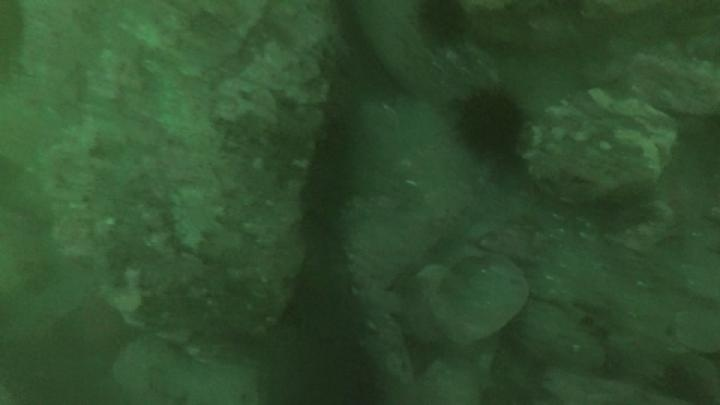echinus: (452, 85, 529, 160), (414, 1, 472, 48)
